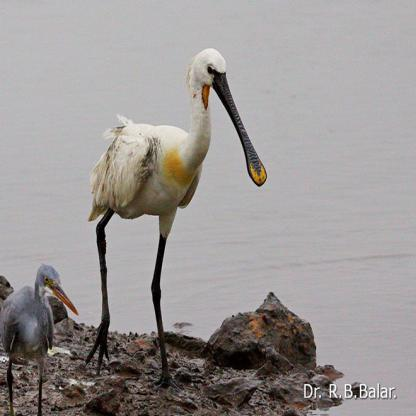Burung: (82, 48, 268, 376)
